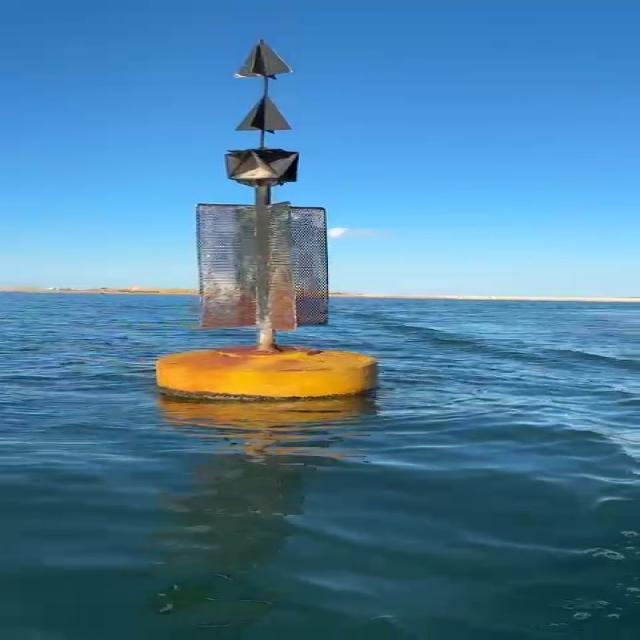marque: (148, 42, 388, 405)
